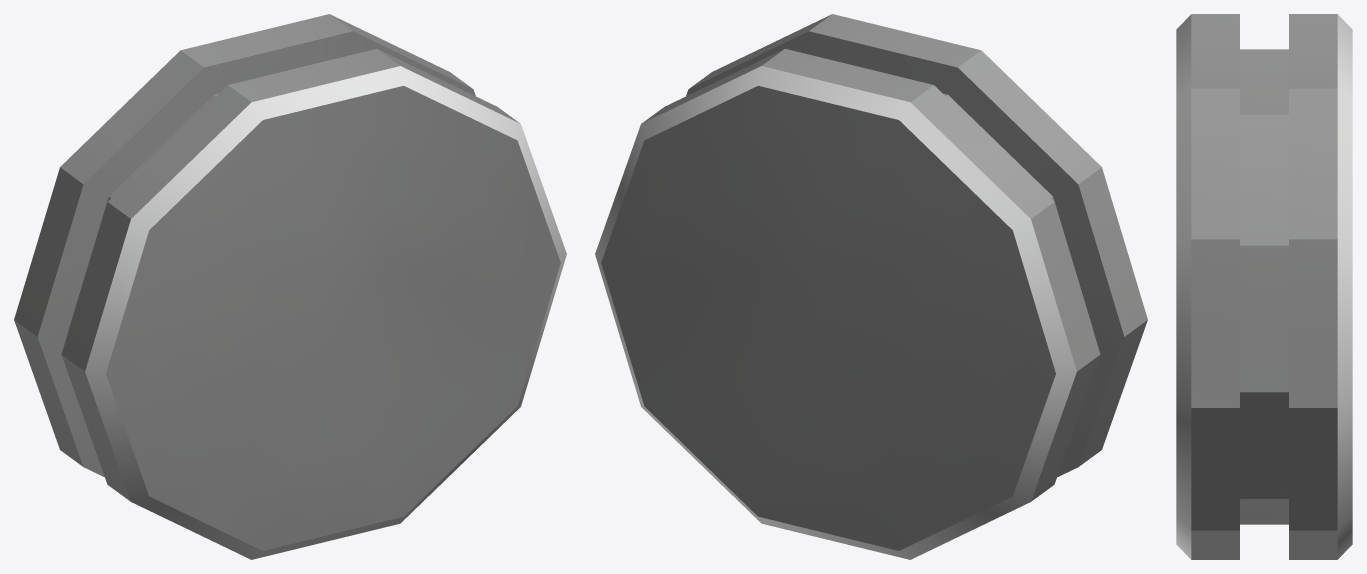
Rendered from small_wheel.fbx.
The picture shows the model from 3 angles, left to right: view 1: azimuth 30°, elevation 25°; view 2: azimuth 150°, elevation 25°; view 3: azimuth 270°, elevation 25°; orthographic projection. The views are drawn at different scales.
Visible parts, largest first — view 1: small_wheel; view 2: small_wheel; view 3: small_wheel.
Boxes of the visible parts, x1=… form: small_wheel: x1=14, y1=14, x2=566, y2=559; small_wheel: x1=595, y1=14, x2=1147, y2=559; small_wheel: x1=1176, y1=14, x2=1352, y2=559.
Size of the model in its own units: 0.684 by 0.6207 by 0.2108.
